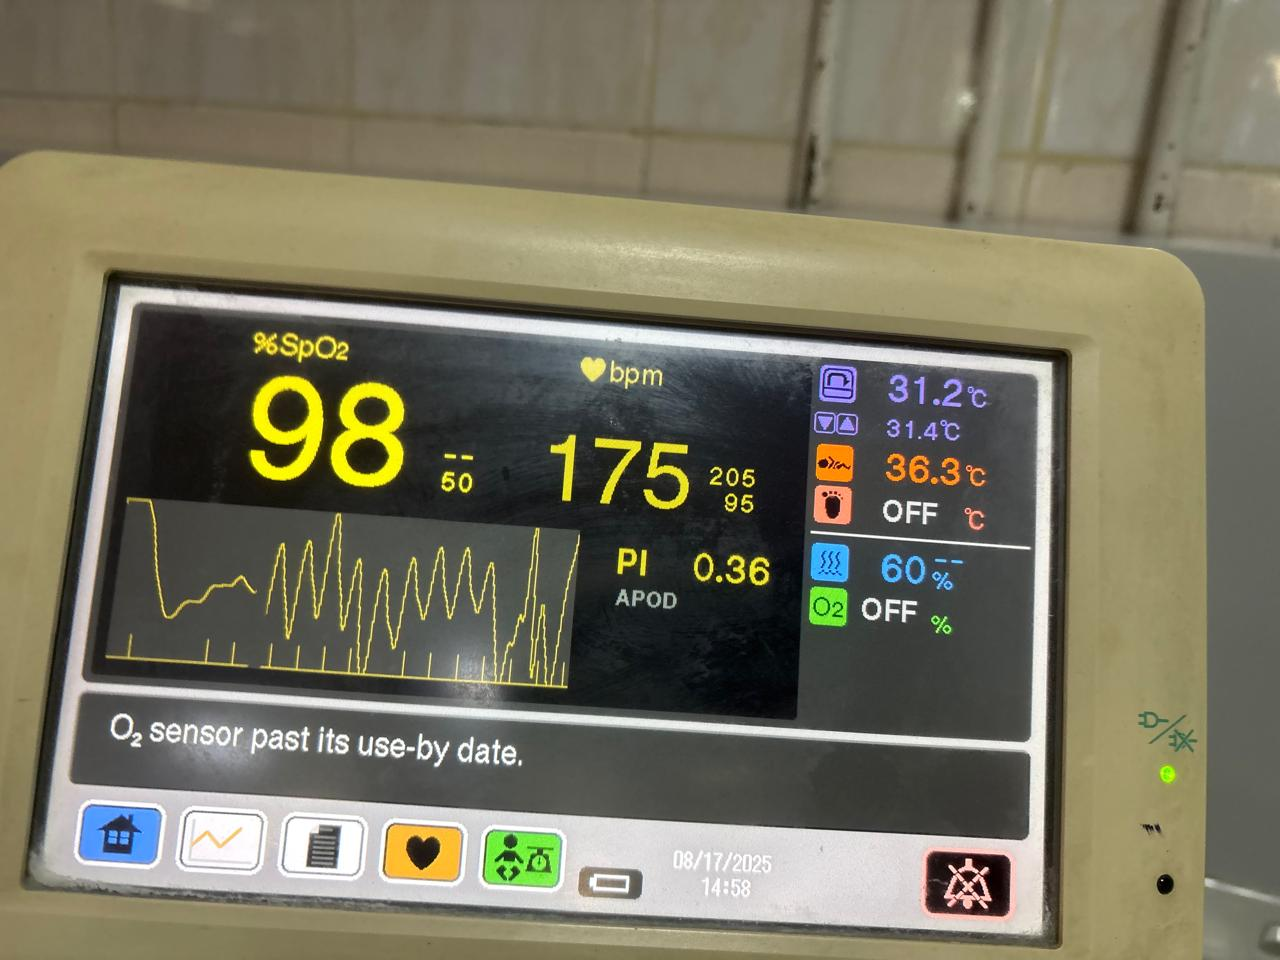heart_rate_value: (541, 420, 707, 505)
humidity_value: (864, 545, 933, 588)
skin_temp_value: (877, 447, 969, 486)
spo2_value: (237, 358, 437, 491)
